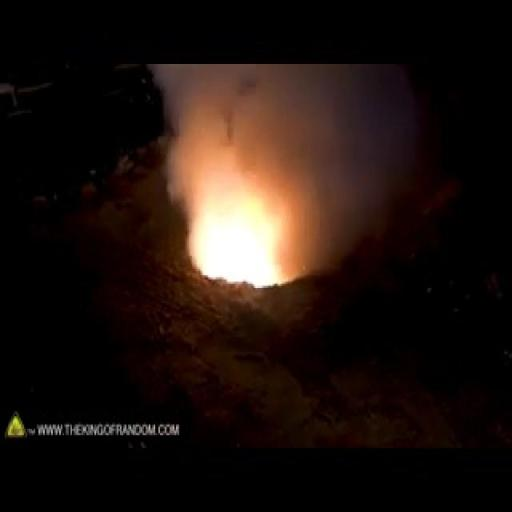smoke: (174, 200, 284, 321)
